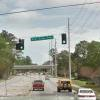Traffic light: (10, 34, 30, 55)
